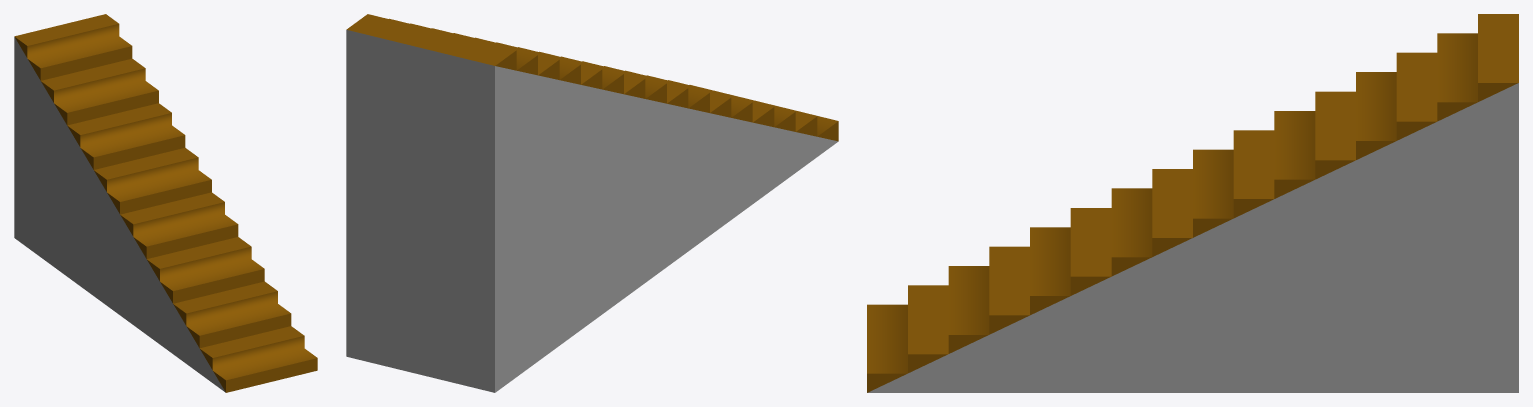
File: Stair_Half_1x4.fbx
The picture shows the model from 3 angles, left to right: view 1: azimuth 30°, elevation 25°; view 2: azimuth 150°, elevation 25°; view 3: azimuth 270°, elevation 25°; orthographic projection. The views are drawn at different scales.
Parts seen in each view (by area): view 1: Stair_Half_1x4; view 2: Stair_Half_1x4; view 3: Stair_Half_1x4.
Boxes of the visible parts, x1,y1,x2,y2 form: Stair_Half_1x4: [14, 14, 317, 392]; Stair_Half_1x4: [346, 14, 838, 392]; Stair_Half_1x4: [867, 14, 1518, 392].
Bounding box in the file's own units: 1 × 2.1 × 4.
